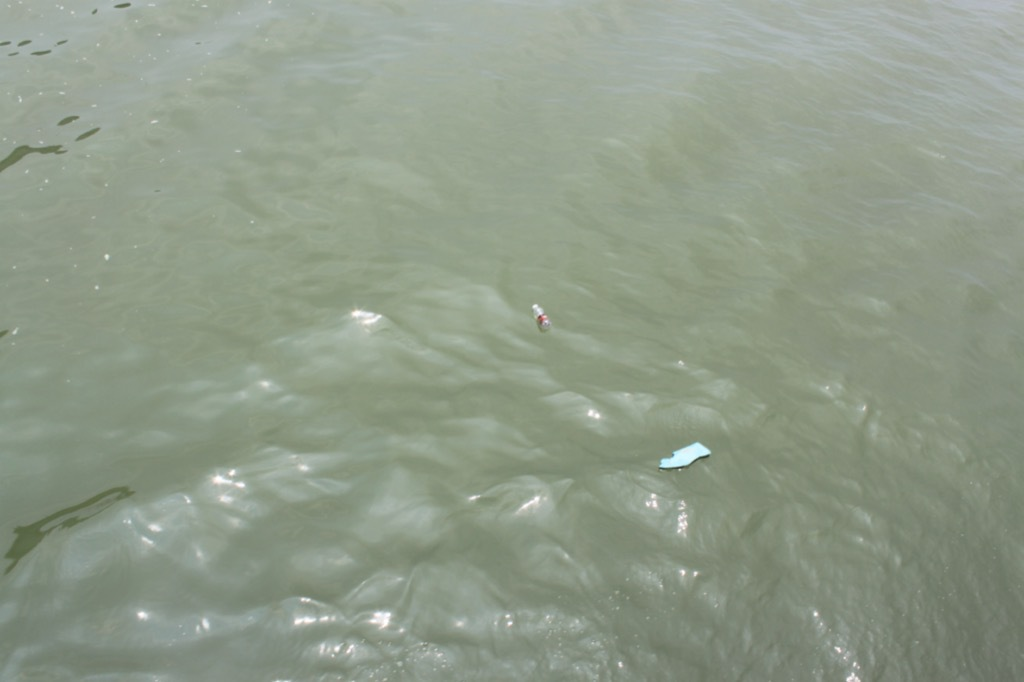plastic: (630, 429, 738, 488), (519, 286, 564, 347)
